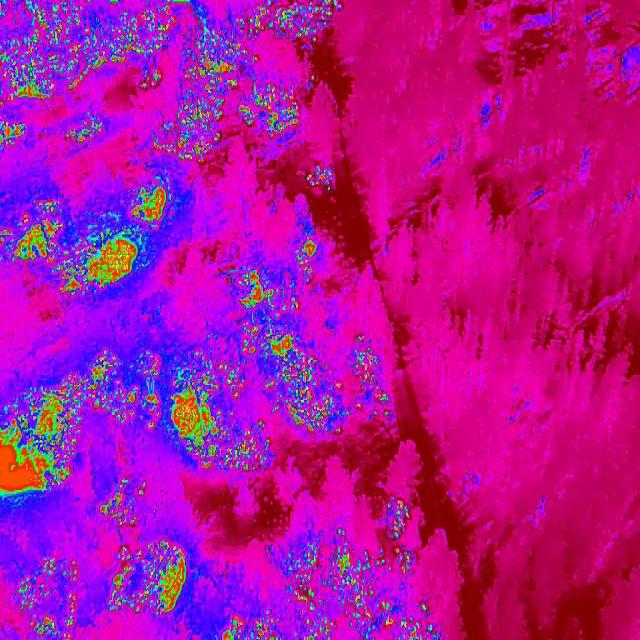fire: (151, 0, 299, 164), (12, 178, 188, 306), (0, 0, 174, 105), (285, 537, 437, 640), (170, 351, 274, 474), (0, 376, 87, 506), (240, 270, 298, 436), (104, 537, 198, 627), (86, 348, 164, 434), (18, 549, 80, 640), (350, 342, 402, 430), (298, 345, 347, 434), (90, 478, 164, 532), (215, 604, 287, 640), (298, 0, 338, 50), (380, 492, 416, 536), (65, 112, 115, 143), (0, 120, 27, 162), (294, 230, 320, 270), (304, 163, 338, 192)
